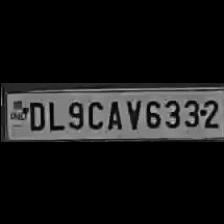2: (200, 94, 218, 128)
3: (162, 96, 180, 128), (182, 94, 198, 128)
6: (142, 96, 160, 128)
9: (63, 97, 83, 129)
A: (103, 96, 123, 130)
C: (84, 97, 104, 129)
D: (25, 98, 45, 130)
L: (44, 96, 61, 130)
V: (123, 96, 141, 130)
